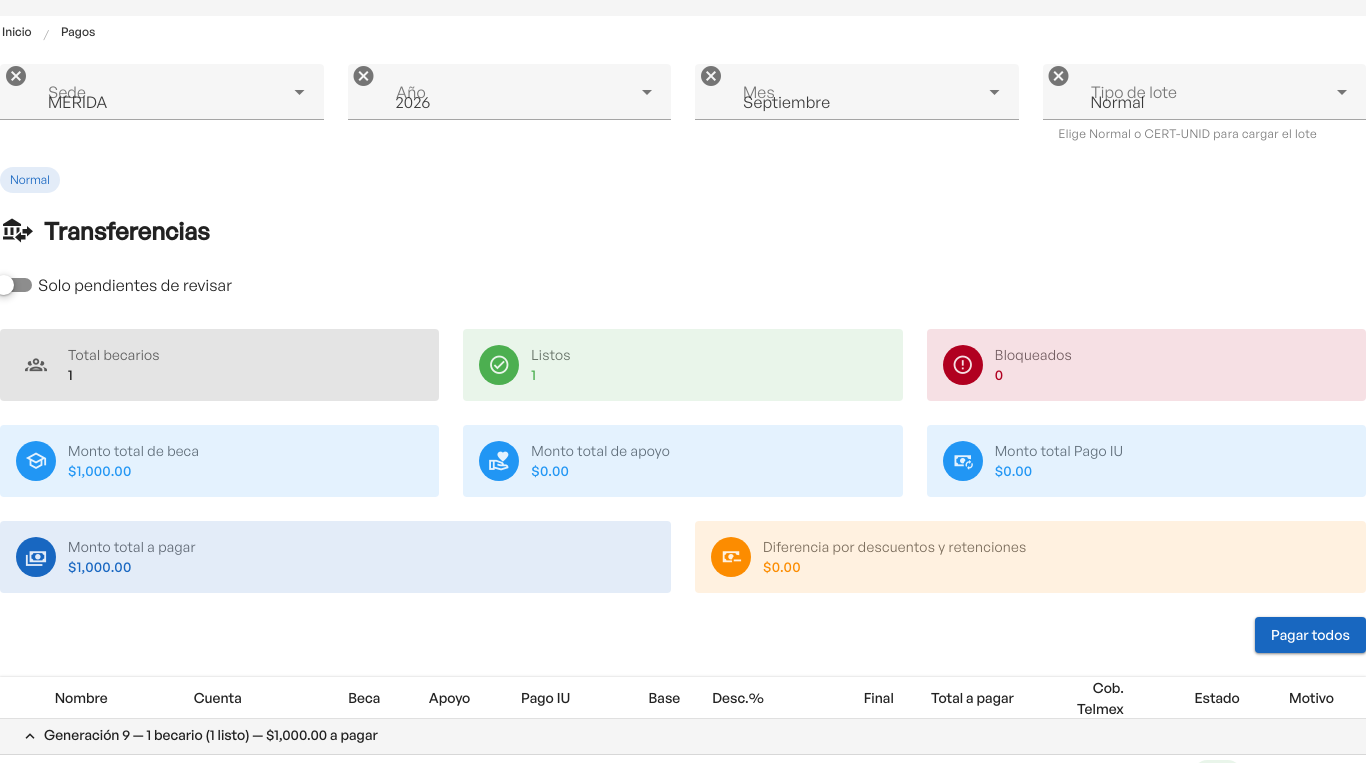
Scenario: PaymentsView › shows a distinct message when "Pagar todos" fails because the batch was already processed (409 + batch_id)
Click the button "Pagar todos" at (1310, 635), box top-left (1255, 617), bottom-right (1365, 653)
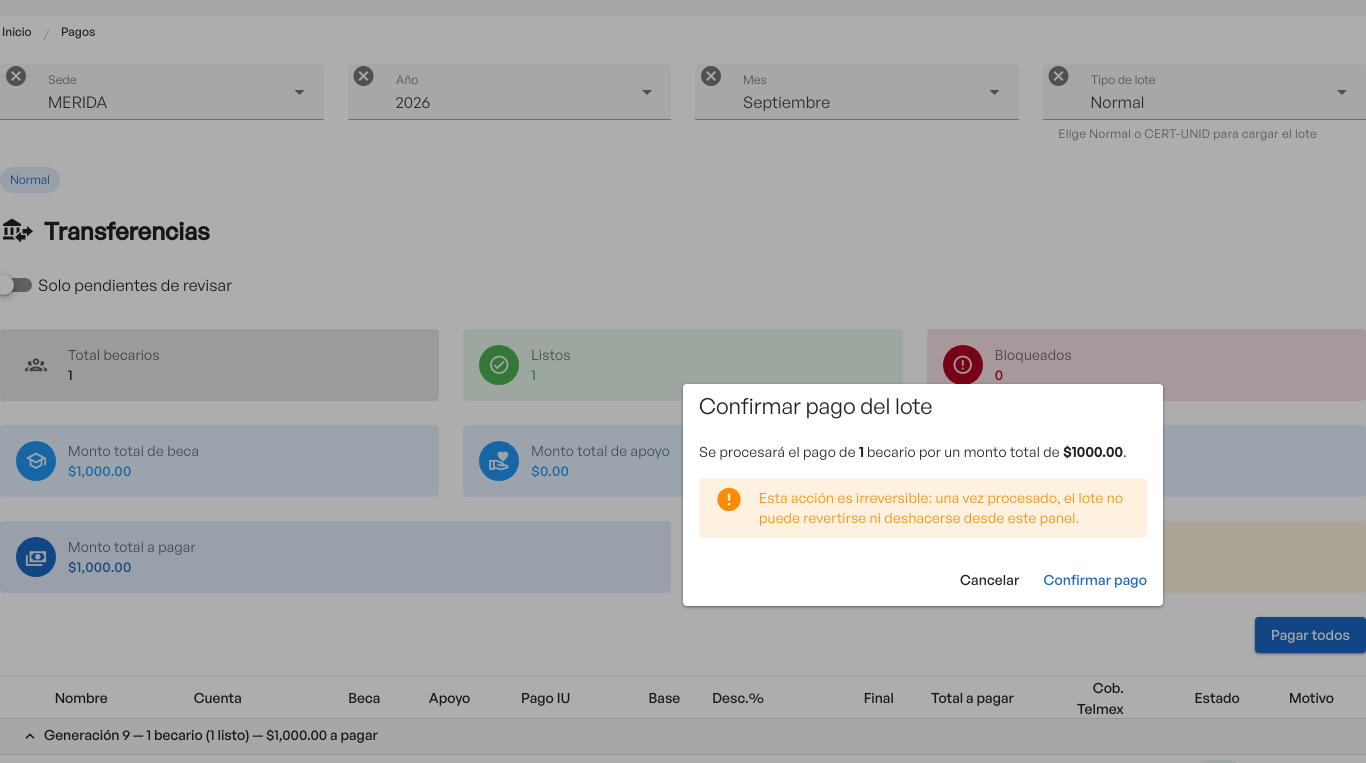
Click the button "Confirmar pago" at (1095, 580), box top-left (1035, 562), bottom-right (1155, 598)
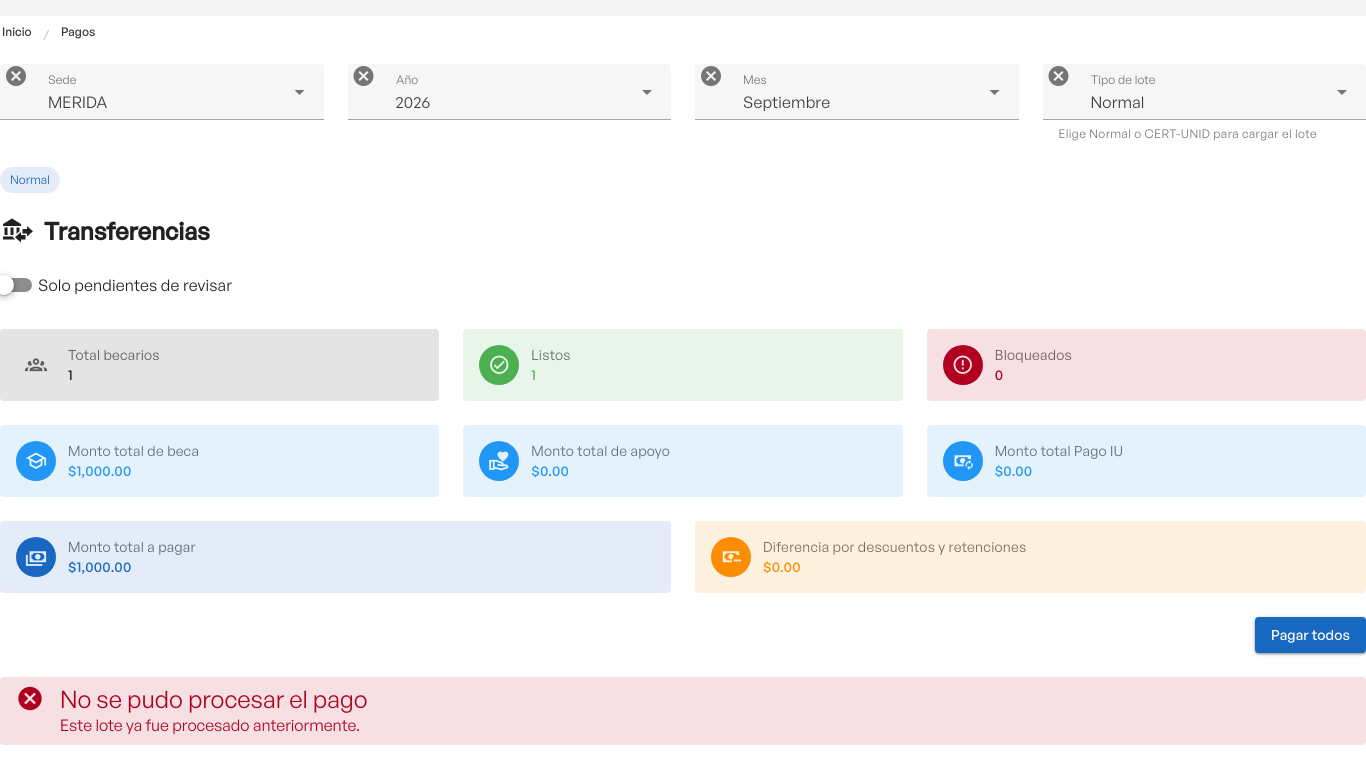
Check: the text "Este lote ya fue procesado anteriormente." is shown, box top-left (60, 715), bottom-right (360, 735)
